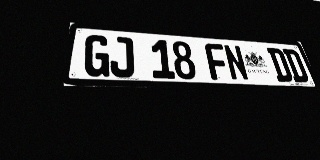1: (150, 39, 175, 79)
8: (171, 41, 197, 79)
D: (266, 47, 294, 82), (282, 49, 310, 82)
F: (204, 43, 231, 80)
G: (83, 34, 109, 77)
J: (110, 36, 134, 78)
N: (223, 44, 250, 81)
